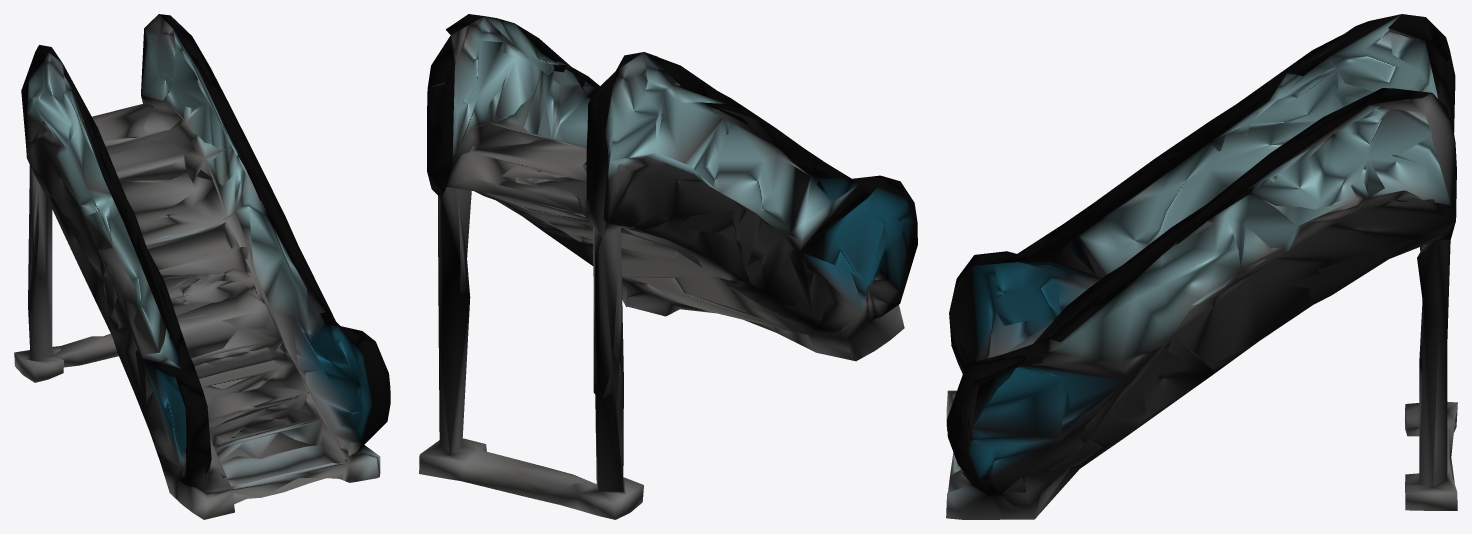
File: gen3d-escalator-lod0.glb
The picture shows the model from 3 angles, left to right: view 1: azimuth 30°, elevation 25°; view 2: azimuth 150°, elevation 25°; view 3: azimuth 270°, elevation 25°; orthographic projection. The views are drawn at different scales.
Visible parts, largest first — view 1: part_0; view 2: part_0; view 3: part_0.
Part boxes in pixels (x1,y1,x2,y2): part_0: (14,14,390,519); part_0: (419,14,917,519); part_0: (946,14,1457,519).
Bounding box in the file's own units: 0.6296 × 0.9957 × 1.11.
